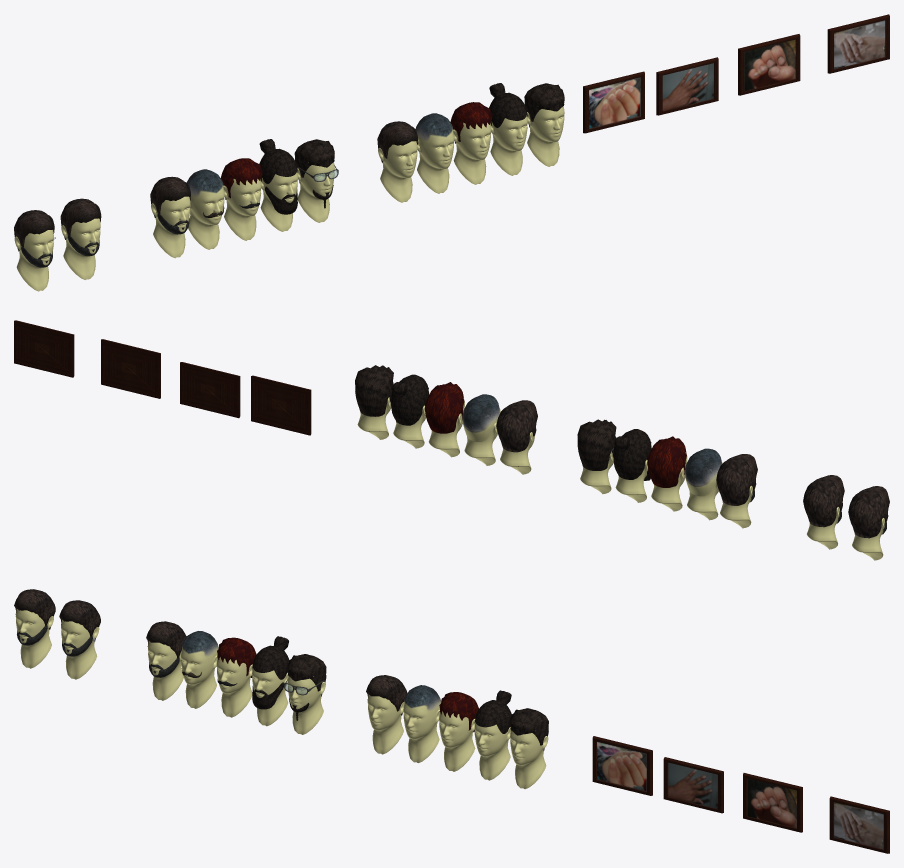
The model's file is Facial_set.fbx.
The picture shows the model from 3 angles, top to bottom: view 1: azimuth 30°, elevation 25°; view 2: azimuth 150°, elevation 25°; view 3: azimuth 330°, elevation 25°; orthographic projection. The views are drawn at different scales.
Visible parts, largest first — view 1: mannequin7 (×3), Hair (×3), Frame_Frame_3, Frame_Frame_1, Frame_Frame_4, Frame_Frame_2, Hair_1st_Option (×3), mannequin1, mannequin6, mannequin3, mannequin2, mannequin8 (+8 smaller); view 2: Hair_1st_Option (×3), Hair (×3), Frame_Frame_1, Frame_Frame_3, Frame_Frame_4, Frame_Frame_2, mannequin1, mannequin6, mannequin7 (×3), Hair_4th_Option, Hair_5th_Option, Hai (+8 smaller); view 3: mannequin7 (×3), Hair (×3), Frame_Frame_1, Frame_Frame_3, Frame_Frame_4, Hair_1st_Option (×3), Frame_Frame_2, mannequin1, mannequin6, mannequin3, mannequin2, mannequin5 (+8 smaller).
Boxes of the visible parts, x1,y1,x2,y2 form: mannequin7 (×3): [14, 196, 190, 291]; Hair (×3): [377, 83, 564, 162]; Frame_Frame_3: [738, 34, 800, 95]; Frame_Frame_1: [583, 71, 644, 133]; Frame_Frame_4: [827, 14, 889, 73]; Frame_Frame_2: [656, 57, 718, 115]; Hair_1st_Option (×3): [14, 176, 190, 251]; mannequin1: [415, 113, 454, 193]; mannequin6: [186, 169, 224, 249]; mannequin3: [453, 122, 491, 184]; mannequin2: [378, 141, 417, 202]; mannequin8: [223, 179, 261, 240]; Hair_1st_Option (×3): [716, 454, 889, 538]; Hair (×3): [355, 365, 537, 452]; Frame_Frame_1: [251, 375, 311, 435]; Frame_Frame_3: [101, 339, 160, 398]; Frame_Frame_4: [14, 320, 74, 377]; Frame_Frame_2: [180, 362, 240, 418]; mannequin1: [462, 394, 500, 465]; mannequin6: [684, 448, 722, 520]; mannequin7 (×3): [720, 485, 887, 560]; Hair_4th_Option: [577, 419, 616, 470]; Hair_5th_Option: [647, 436, 686, 487]; Hai: [424, 382, 464, 433]; mannequin7 (×3): [15, 609, 183, 700]; Hair (×3): [366, 675, 548, 750]; Frame_Frame_1: [592, 736, 652, 795]; Frame_Frame_3: [743, 773, 802, 832]; Frame_Frame_4: [829, 796, 889, 853]; Hair_1st_Option (×3): [14, 589, 186, 657]; Frame_Frame_2: [663, 757, 723, 813]; mannequin1: [403, 685, 441, 763]; mannequin6: [181, 631, 218, 708]; mannequin3: [439, 711, 475, 771]; mannequin2: [367, 694, 404, 754]; mannequin5: [510, 730, 548, 789].
Bounding box in the file's own units: 434 × 37.55 × 24.79.
